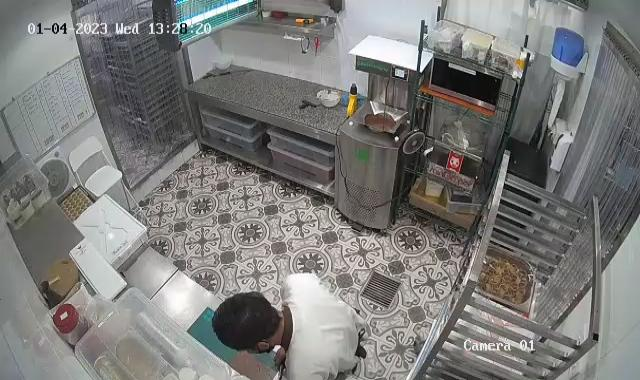no_hairnet: (213, 290, 281, 358)
